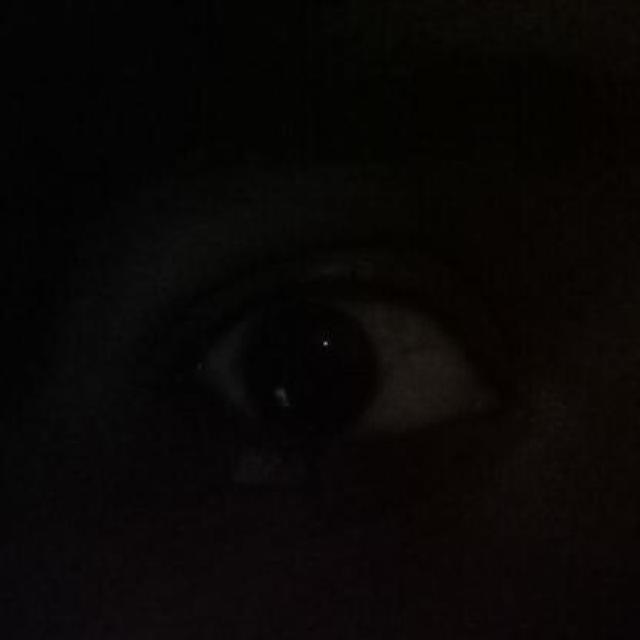awake: (198, 288, 487, 440)
